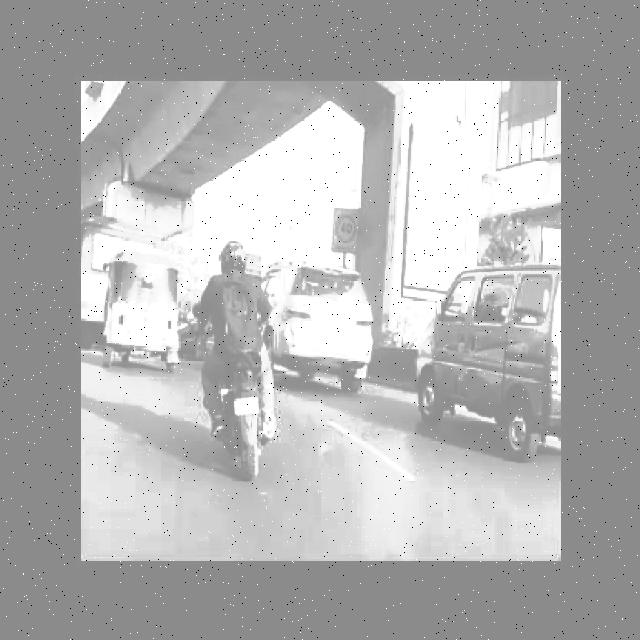Car: (404, 266, 562, 474), (268, 248, 374, 388)
